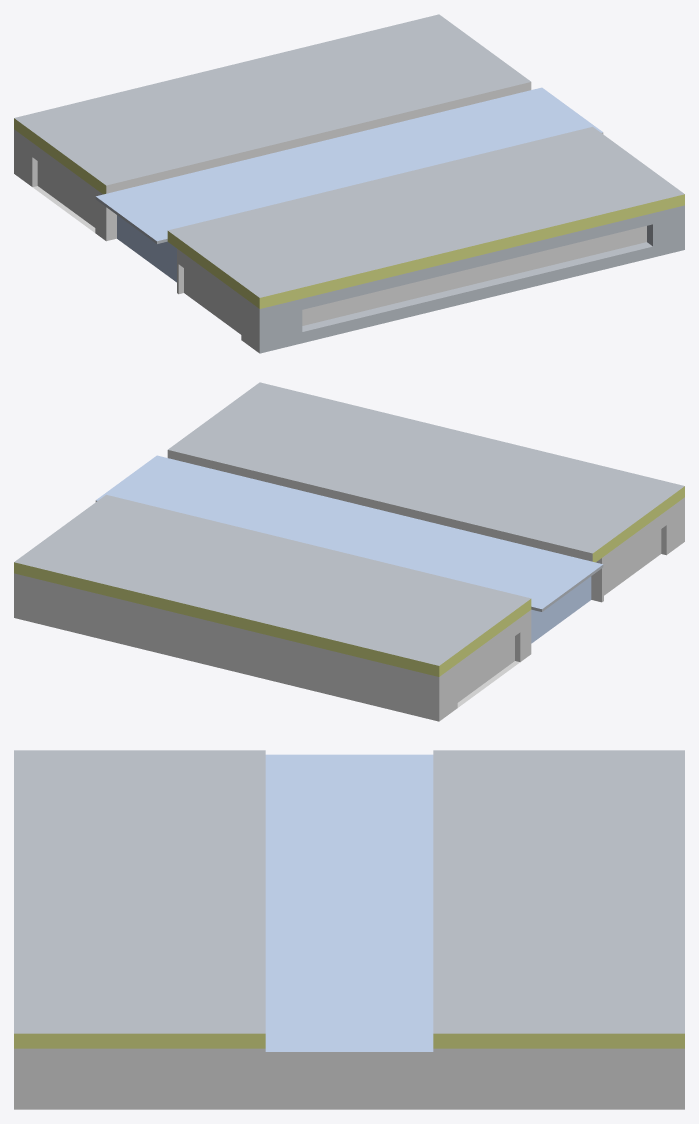
The model's file is administracao.glb.
3 renders of one model, top to bottom at view 1: azimuth 30°, elevation 25°; view 2: azimuth 150°, elevation 25°; view 3: azimuth 270°, elevation 25°, orthographic. The views are drawn at different scales.
Parts seen in each view (by area): view 1: Administração; view 2: Administração; view 3: Administração.
Boxes of the visible parts, x1,y1,x2,y2 form: Administração: (14,14,684,353); Administração: (14,382,684,721); Administração: (14,750,684,1109).
Bounding box in the file's own units: 41.94 × 5 × 39.99.
